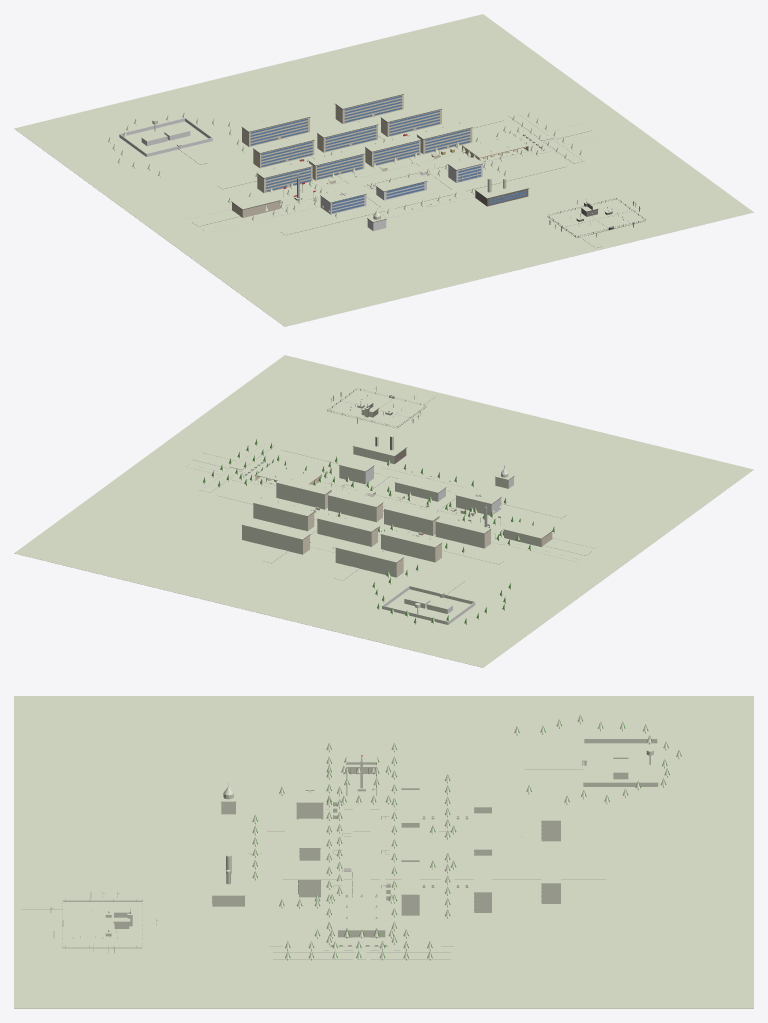
File: glazov_city.glb
3 renders of one model, top to bottom at view 1: azimuth 30°, elevation 25°; view 2: azimuth 150°, elevation 25°; view 3: azimuth 270°, elevation 25°, orthographic. The views are drawn at different scales.
Parts seen in each view (by area): view 1: ENV_City; view 2: ENV_City; view 3: ENV_City.
Boxes of the visible parts, left/top/right/bottom form: ENV_City: left=14, top=14, right=753, bottom=326; ENV_City: left=14, top=355, right=753, bottom=667; ENV_City: left=14, top=696, right=753, bottom=1008.
Bounding box in the file's own units: 500 × 26.8 × 500.
